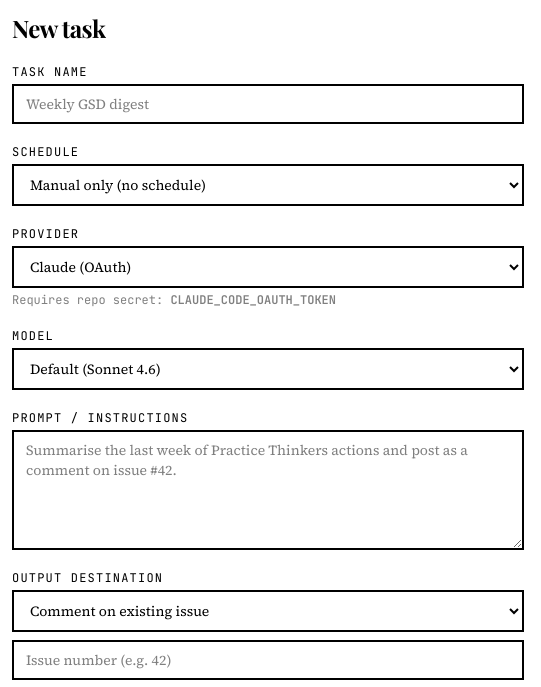
TaskForm › shows "Next runs" label when a preset schedule is selected
Select "Daily 8am UTC (weekdays)" in the dropdown labelled "Schedule" at (268, 185), box [12,164,524,206]
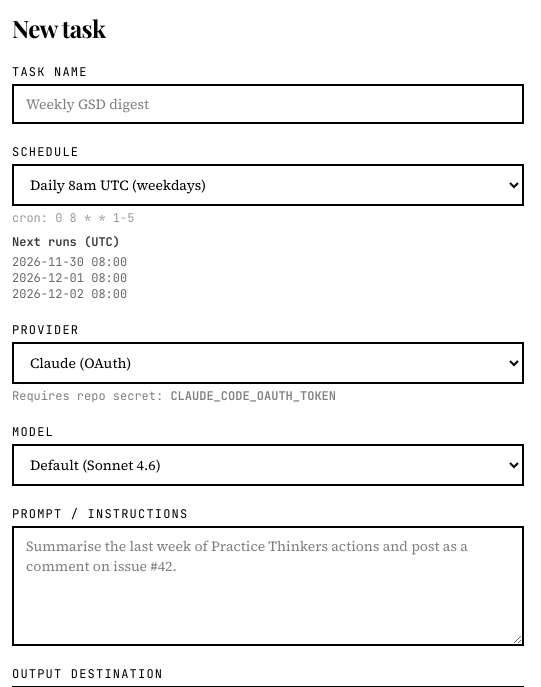
expect the text "Next runs (UTC)" is shown: met, box [12,234,120,250]
